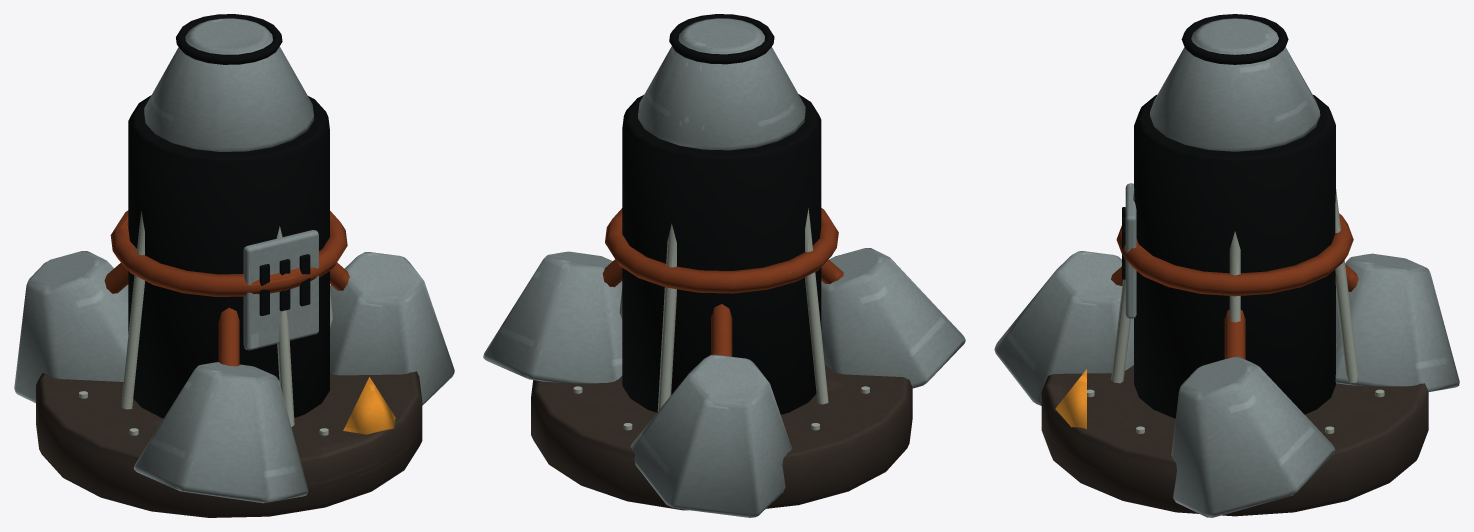
The model's file is lunar-power-standard.glb.
3 views of the same model, side by side, from view 1: azimuth 30°, elevation 25°; view 2: azimuth 150°, elevation 25°; view 3: azimuth 270°, elevation 25° (orthographic).
Parts seen in each view (by area): view 1: Lunar_Core, Lunar_Base, Feed_Petal_2, Lunar_Hopper, Feed_Petal_1, Feed_Petal_0, Lunar_Service_Panel, Lunar_Core_Ring, Lunar_Hopper_Lip, Lunar_Core_Brace_3.141592653589793, PORT_Power.001, Lunar_Core_Brace_4.71238898038469 (+4 smaller); view 2: Lunar_Core, Lunar_Base, Feed_Petal_1, Lunar_Hopper, Feed_Petal_0, Feed_Petal_2, Lunar_Core_Ring, Lunar_Core_Brace_1.5707963267948966, Lunar_Hopper_Lip, Lunar_Core_Brace_3.141592653589793, Feed_Line_1; view 3: Lunar_Core, Lunar_Base, Feed_Petal_0, Lunar_Hopper, Feed_Petal_1, Feed_Petal_2, Lunar_Core_Ring, Lunar_Hopper_Lip, Lunar_Core_Brace_1.5707963267948966, Lunar_Service_Panel, PORT_Power.001, Lunar_Core_Brace_4.71238898038469 (+2 smaller).
Part boxes in pixels (x1=…): Lunar_Core: x1=128, y1=95, x2=329, y2=418; Lunar_Base: x1=36, y1=371, x2=422, y2=517; Feed_Petal_2: x1=133, y1=362, x2=308, y2=503; Lunar_Hopper: x1=144, y1=18, x2=314, y2=151; Feed_Petal_1: x1=14, y1=251, x2=128, y2=403; Feed_Petal_0: x1=330, y1=252, x2=454, y2=405; Lunar_Service_Panel: x1=243, y1=230, x2=318, y2=350; Lunar_Core_Ring: x1=110, y1=210, x2=347, y2=296; Lunar_Hopper_Lip: x1=176, y1=14, x2=282, y2=64; Lunar_Core_Brace_3.141592653589793: x1=121, y1=211, x2=144, y2=409; PORT_Power.001: x1=343, y1=377, x2=395, y2=434; Lunar_Core_Brace_4.71238898038469: x1=276, y1=226, x2=294, y2=426; Lunar_Core: x1=622, y1=94, x2=821, y2=414; Lunar_Base: x1=531, y1=365, x2=912, y2=510; Feed_Petal_1: x1=630, y1=354, x2=791, y2=517; Lunar_Hopper: x1=638, y1=18, x2=805, y2=150; Feed_Petal_0: x1=483, y1=251, x2=622, y2=383; Feed_Petal_2: x1=821, y1=248, x2=965, y2=388; Lunar_Core_Ring: x1=605, y1=208, x2=838, y2=293; Lunar_Core_Brace_1.5707963267948966: x1=657, y1=223, x2=676, y2=411; Lunar_Hopper_Lip: x1=669, y1=14, x2=774, y2=64; Lunar_Core_Brace_3.141592653589793: x1=805, y1=208, x2=828, y2=404; Feed_Line_1: x1=711, y1=304, x2=732, y2=356; Lunar_Core: x1=1134, y1=95, x2=1335, y2=418; Lunar_Base: x1=1041, y1=365, x2=1428, y2=516; Feed_Petal_0: x1=1171, y1=356, x2=1335, y2=517; Lunar_Hopper: x1=1150, y1=18, x2=1320, y2=151; Feed_Petal_1: x1=1335, y1=253, x2=1459, y2=391; Feed_Petal_2: x1=994, y1=251, x2=1133, y2=405; Lunar_Core_Ring: x1=1116, y1=213, x2=1353, y2=296; Lunar_Hopper_Lip: x1=1181, y1=14, x2=1288, y2=64; Lunar_Core_Brace_1.5707963267948966: x1=1335, y1=189, x2=1358, y2=383; Lunar_Service_Panel: x1=1125, y1=183, x2=1136, y2=318; PORT_Power.001: x1=1055, y1=369, x2=1086, y2=429; Lunar_Core_Brace_4.71238898038469: x1=1111, y1=188, x2=1134, y2=383.
Bounding box in the file's own units: 1.04 × 1.06 × 1.11.
6 materials, 6 textured.
